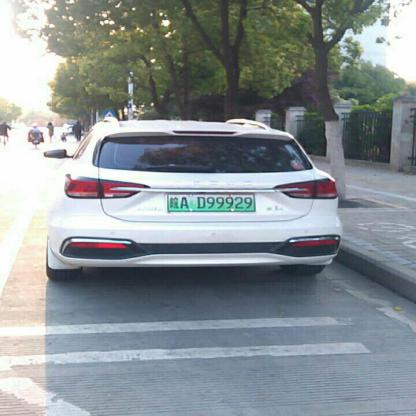lp: (168, 194, 256, 210)
